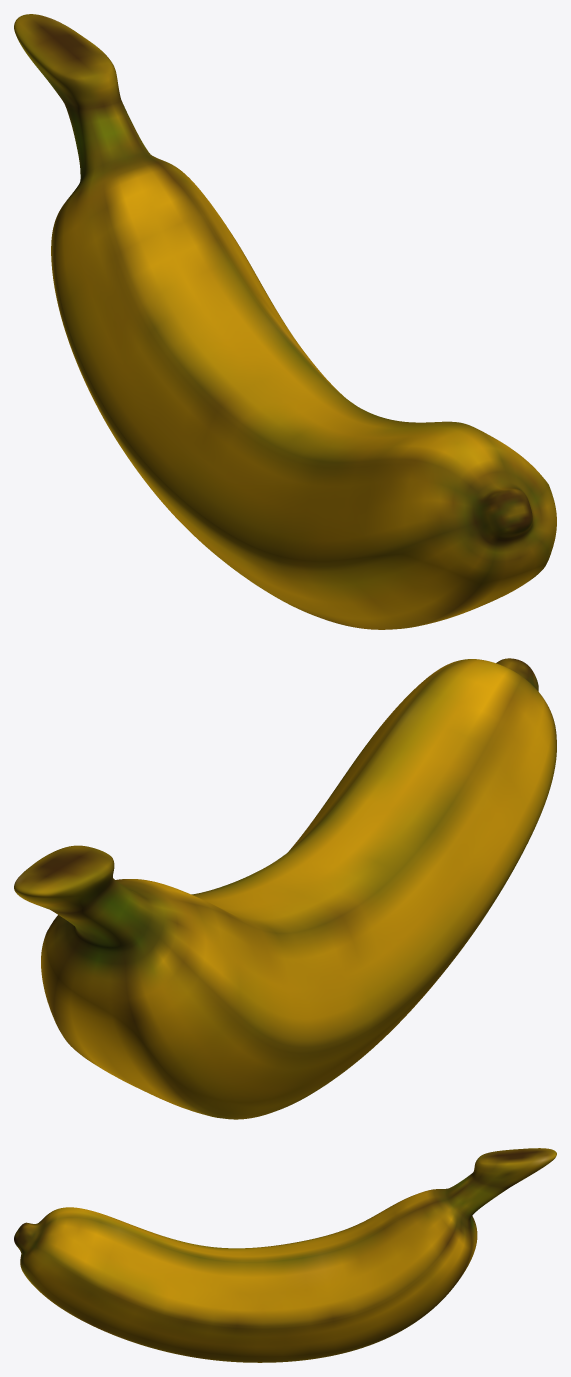
The model's file is banana.gltf.
3 views of the same model, one above another, from view 1: azimuth 30°, elevation 25°; view 2: azimuth 150°, elevation 25°; view 3: azimuth 270°, elevation 25° (orthographic). The views are drawn at different scales.
Visible parts, largest first — view 1: Cube; view 2: Cube; view 3: Cube.
Part boxes in pixels (x1,y1,x2,y2): Cube: [14, 14, 556, 629]; Cube: [14, 658, 556, 1119]; Cube: [14, 1148, 556, 1362].
Bounding box in the file's own units: 2.61 × 4.78 × 11.49.
